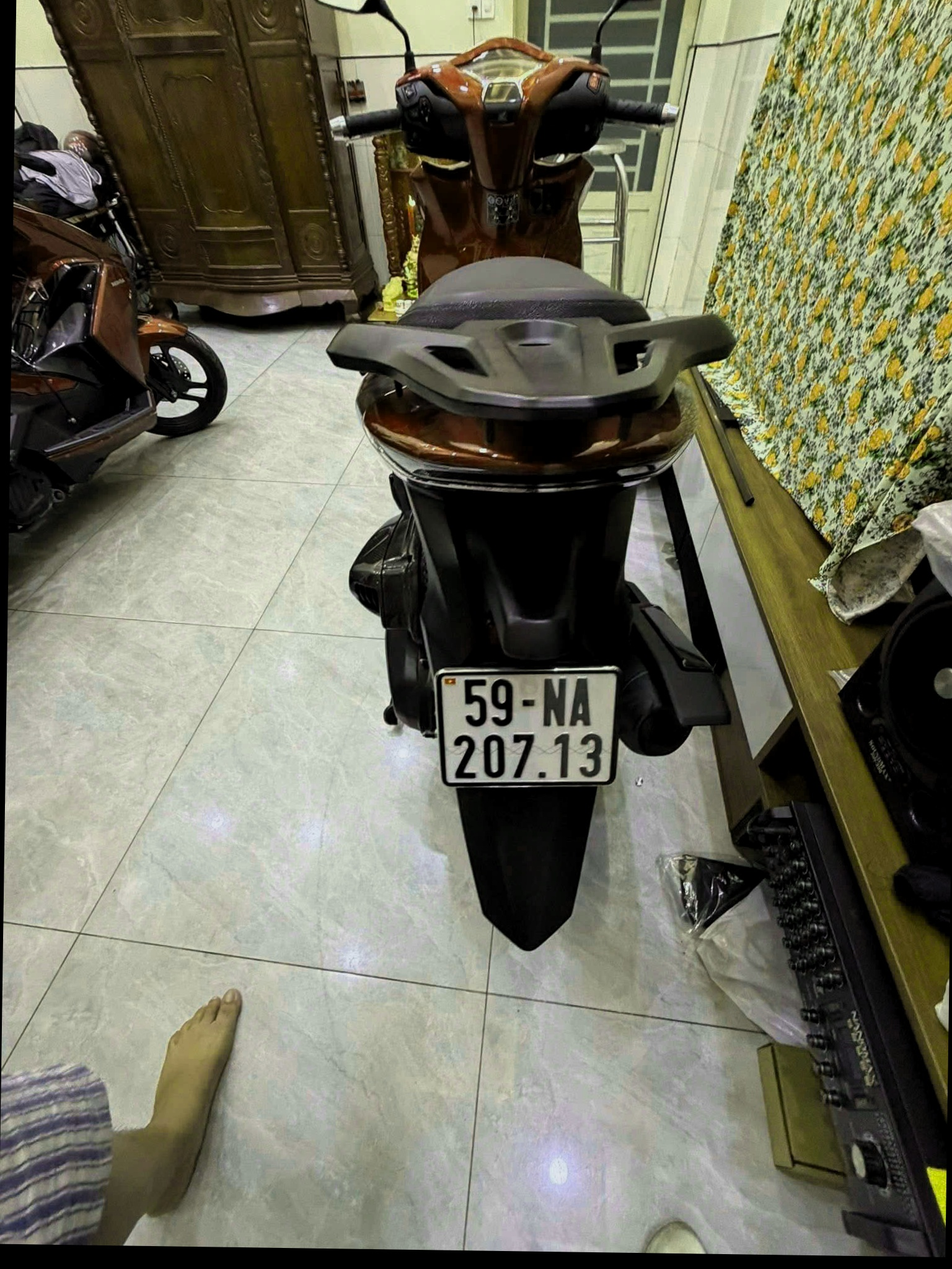Bien-so: (456, 651, 649, 783)
